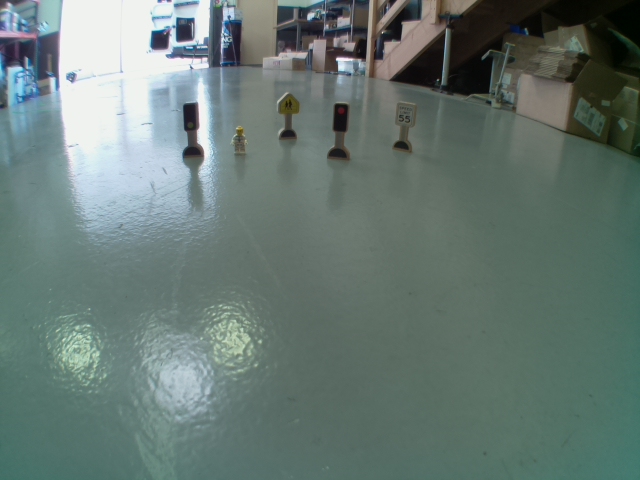Green Traffic Light: (180, 101, 199, 131)
Red Traffic Light: (330, 102, 349, 133)
Speed Limit 55: (395, 101, 415, 128)
YIELD: (273, 89, 301, 117)
person: (229, 125, 251, 158)
